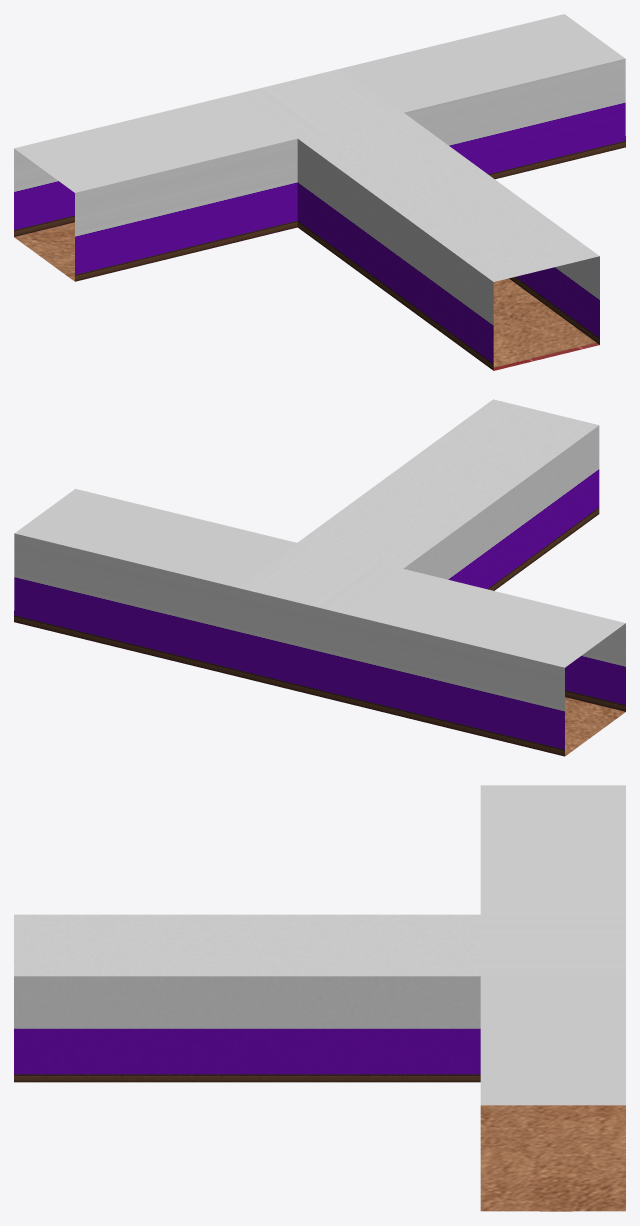
The model's file is Hallway T-Section.fbx.
3 renders of one model, top to bottom at view 1: azimuth 30°, elevation 25°; view 2: azimuth 150°, elevation 25°; view 3: azimuth 270°, elevation 25°, orthographic. The views are drawn at different scales.
Visible parts, largest first — view 1: Hallway; view 2: Hallway; view 3: Hallway.
Part boxes in pixels (<box>): Hallway: <box>14,14,625,370</box>; Hallway: <box>14,399,625,756</box>; Hallway: <box>14,785,625,1211</box>.
Size of the model in its own units: 2598 by 400 by 2098.
